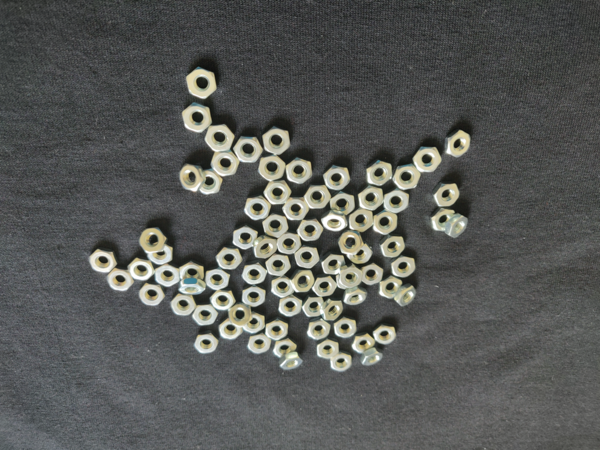nut: (203, 122, 237, 153), (186, 66, 217, 99), (182, 101, 211, 133), (261, 125, 292, 154), (321, 163, 353, 191), (176, 163, 205, 192), (364, 158, 392, 187), (432, 178, 459, 208), (303, 182, 331, 210), (88, 247, 117, 274), (289, 154, 314, 185), (235, 136, 263, 163), (260, 154, 287, 182), (394, 164, 422, 191), (446, 128, 470, 159), (139, 227, 166, 254), (137, 282, 165, 308), (211, 150, 239, 176), (414, 144, 440, 172), (358, 186, 387, 211), (245, 195, 272, 221), (265, 178, 292, 204), (321, 209, 348, 235), (263, 213, 290, 238), (337, 230, 364, 255), (215, 248, 245, 270), (298, 217, 323, 243), (380, 233, 405, 259), (241, 262, 268, 286), (374, 208, 398, 235), (385, 188, 410, 213), (156, 263, 180, 289), (205, 267, 231, 291), (233, 225, 259, 249), (350, 206, 374, 232), (393, 253, 417, 278), (380, 274, 404, 299), (201, 169, 224, 195), (283, 197, 309, 220), (106, 269, 133, 291), (431, 206, 455, 230), (339, 266, 363, 290), (269, 276, 293, 300), (247, 332, 272, 355), (277, 234, 303, 256), (302, 293, 324, 319), (344, 245, 372, 265), (267, 254, 291, 277), (242, 283, 265, 307), (266, 316, 289, 340), (147, 246, 176, 265), (194, 334, 219, 356), (170, 295, 196, 316), (211, 289, 237, 310), (129, 258, 152, 281), (352, 333, 375, 356), (296, 246, 320, 268), (374, 324, 398, 346), (280, 293, 302, 317), (231, 304, 253, 328), (334, 317, 358, 339), (180, 261, 205, 282), (193, 304, 218, 325), (321, 254, 345, 275), (256, 236, 277, 259), (318, 337, 339, 360), (396, 284, 416, 308), (331, 193, 356, 212), (364, 262, 383, 287), (294, 269, 315, 291), (221, 321, 244, 341), (315, 276, 339, 295), (450, 213, 467, 239), (309, 319, 330, 340), (329, 353, 351, 373), (245, 312, 266, 332), (324, 298, 344, 319), (346, 287, 368, 306), (179, 280, 206, 295), (280, 353, 302, 371), (363, 349, 383, 367), (273, 341, 296, 356)
